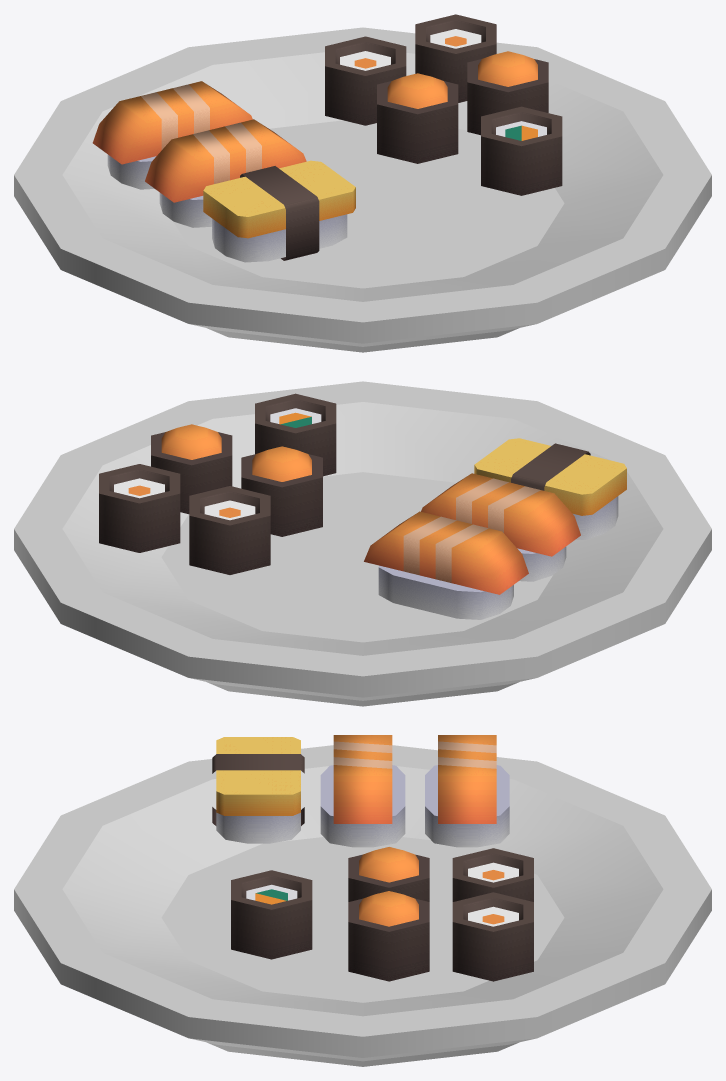
Rendered from combinado-8.glb.
3 renders of one model, top to bottom at view 1: azimuth 30°, elevation 25°; view 2: azimuth 150°, elevation 25°; view 3: azimuth 270°, elevation 25°, orthographic.
Visible parts, largest first — view 1: plate, sushi-salmon (×2), sushi-egg, maki-roe (×2), maki-salmon (×2), maki-vegetable; view 2: plate, sushi-salmon (×2), maki-salmon (×2), maki-roe (×2), sushi-egg, maki-vegetable; view 3: plate, sushi-salmon (×2), maki-roe (×2), maki-salmon (×2), sushi-egg, maki-vegetable.
Boxes of the visible parts, bbox=[...] form: plate: bbox=[14, 27, 711, 352]; sushi-salmon (×2): bbox=[92, 81, 306, 227]; sushi-egg: bbox=[203, 160, 355, 262]; maki-roe (×2): bbox=[377, 51, 548, 163]; maki-salmon (×2): bbox=[325, 14, 496, 125]; maki-vegetable: bbox=[481, 106, 562, 195]; plate: bbox=[14, 381, 711, 706]; sushi-salmon (×2): bbox=[364, 473, 580, 619]; maki-salmon (×2): bbox=[99, 464, 270, 574]; maki-roe (×2): bbox=[151, 424, 322, 536]; sushi-egg: bbox=[474, 438, 626, 539]; maki-vegetable: bbox=[255, 393, 336, 476]; plate: bbox=[14, 745, 711, 1066]; sushi-salmon (×2): bbox=[320, 735, 509, 847]; maki-roe (×2): bbox=[348, 847, 429, 981]; maki-salmon (×2): bbox=[452, 848, 533, 981]; sushi-egg: bbox=[212, 737, 304, 843]; maki-vegetable: bbox=[231, 870, 312, 959].
Bounding box in the file's own units: 0.2675 × 0.056 × 0.2675.
2 materials, 1 textured.
